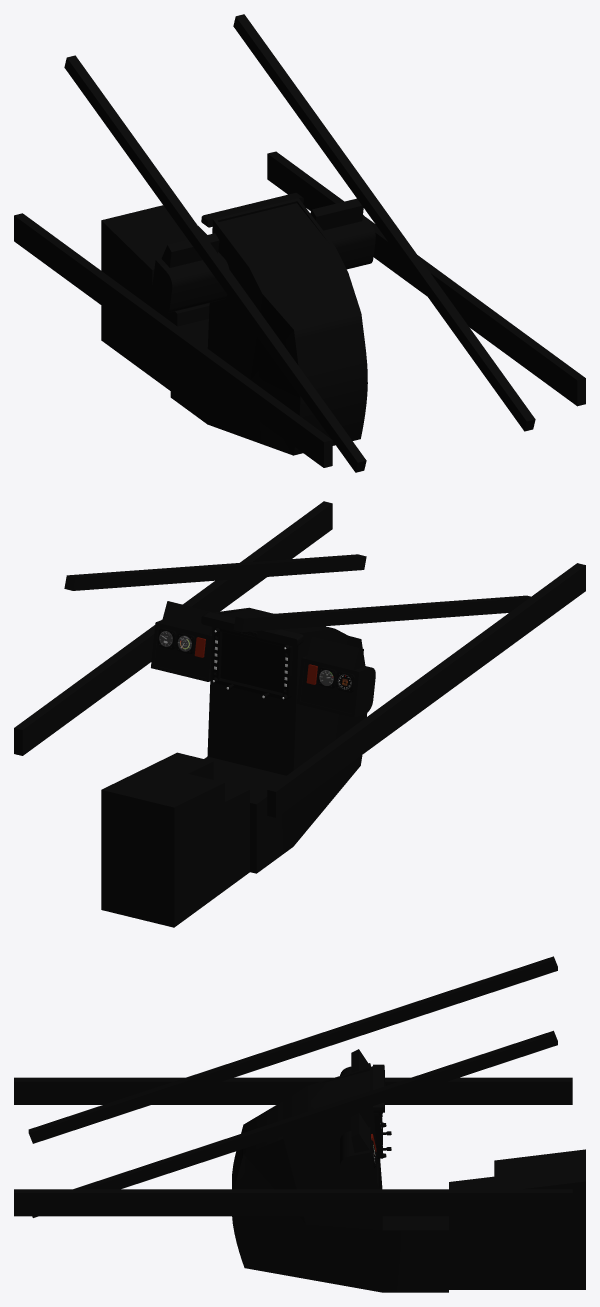
Rendered from cockpit.obj.
The picture shows the model from 3 angles, top to bottom: view 1: azimuth 30°, elevation 25°; view 2: azimuth 150°, elevation 25°; view 3: azimuth 270°, elevation 25°; orthographic projection. The views are drawn at different scales.
Visible parts, largest first — view 1: Console_1_Console_1_Console_1_Console1.001, 立方体.003, 立方体.001, 立方体.002, 立方体.004; view 2: Console_1_Console_1_Console_1_Console1.001, 立方体.003, 立方体.004, 立方体.002, 立方体.001, Panel_Avionics_Avionics.001; view 3: Console_1_Console_1_Console_1_Console1.001, 立方体.004, 立方体.003, 立方体.001, 立方体.002, Panel_Avionics_Avionics.001.
Boxes of the visible parts, <box> form: Console_1_Console_1_Console_1_Console1.001: <box>101,193,375,455</box>; 立方体.003: <box>14,213,332,467</box>; 立方体.001: <box>64,55,366,472</box>; 立方体.002: <box>233,14,535,431</box>; 立方体.004: <box>267,151,585,406</box>; Console_1_Console_1_Console_1_Console1.001: <box>101,601,375,927</box>; 立方体.003: <box>267,563,585,817</box>; 立方体.004: <box>14,501,332,755</box>; 立方体.002: <box>64,554,366,590</box>; 立方体.001: <box>233,595,530,632</box>; Panel_Avionics_Avionics.001: <box>212,628,292,699</box>; Console_1_Console_1_Console_1_Console1.001: <box>232,1049,585,1292</box>; 立方体.004: <box>14,1189,572,1216</box>; 立方体.003: <box>14,1077,572,1104</box>; 立方体.001: <box>28,956,557,1143</box>; 立方体.002: <box>32,1030,557,1217</box>; Panel_Avionics_Avionics.001: <box>374,1112,391,1158</box>.
Bounding box in the file's own units: 6.21 × 6.99 × 13.01.
Materials: 15 (5 with a texture image).
